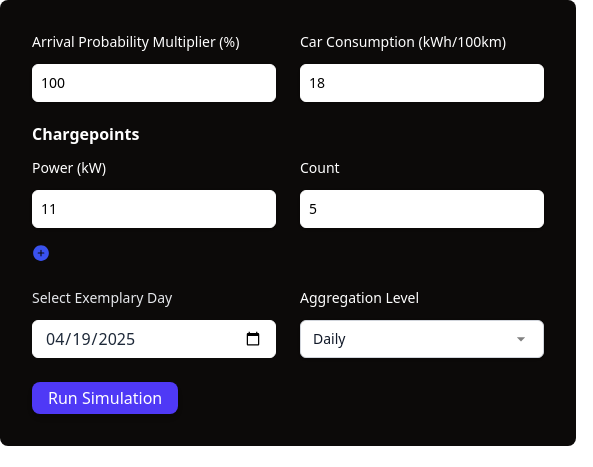
Test: ChargePointForm › submits the form
The image size is (593, 467).
Click the button "Run Simulation". click: (105, 398)
box: [32,382,178,414]
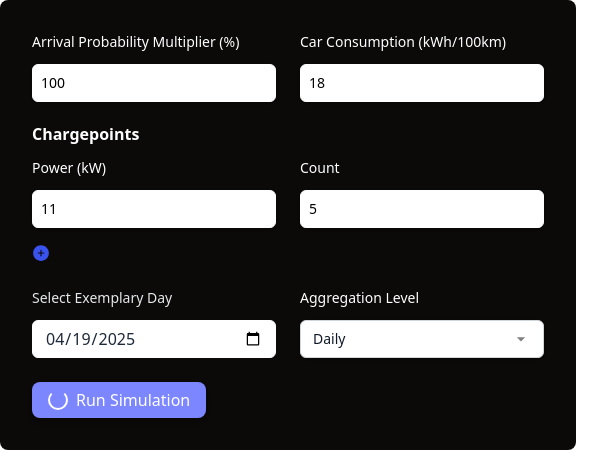
Expected: the button "Run Simulation" is disabled, [32,382,206,418]
